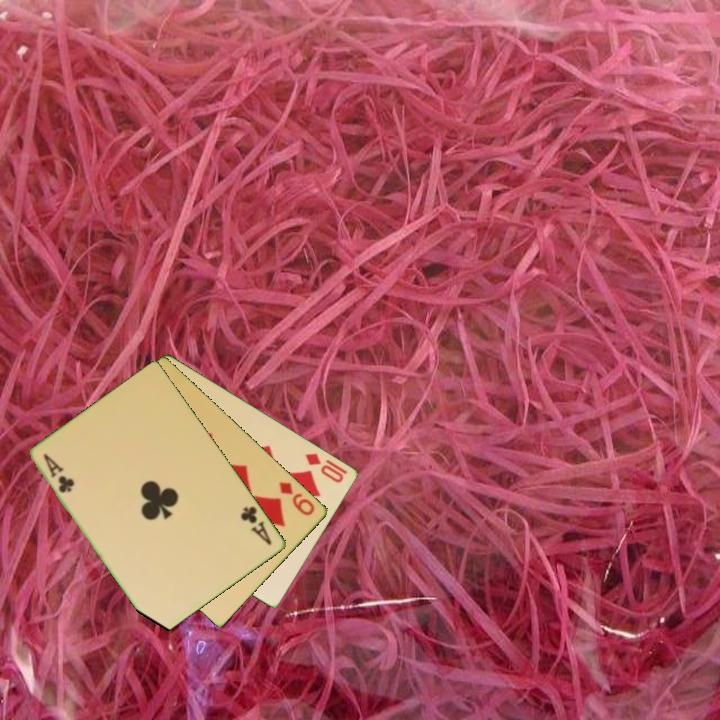10d: (302, 449, 347, 486)
9d: (276, 478, 318, 519)
Ac: (40, 450, 78, 496), (237, 503, 275, 548)
